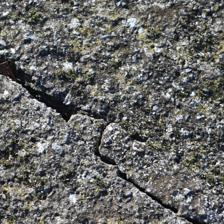Crack: (23, 42, 85, 153), (75, 47, 137, 151)
